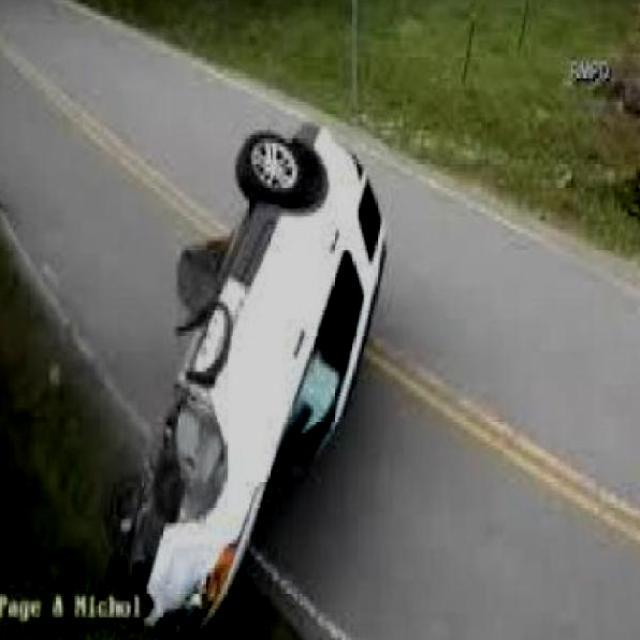accident: (106, 124, 392, 638)
